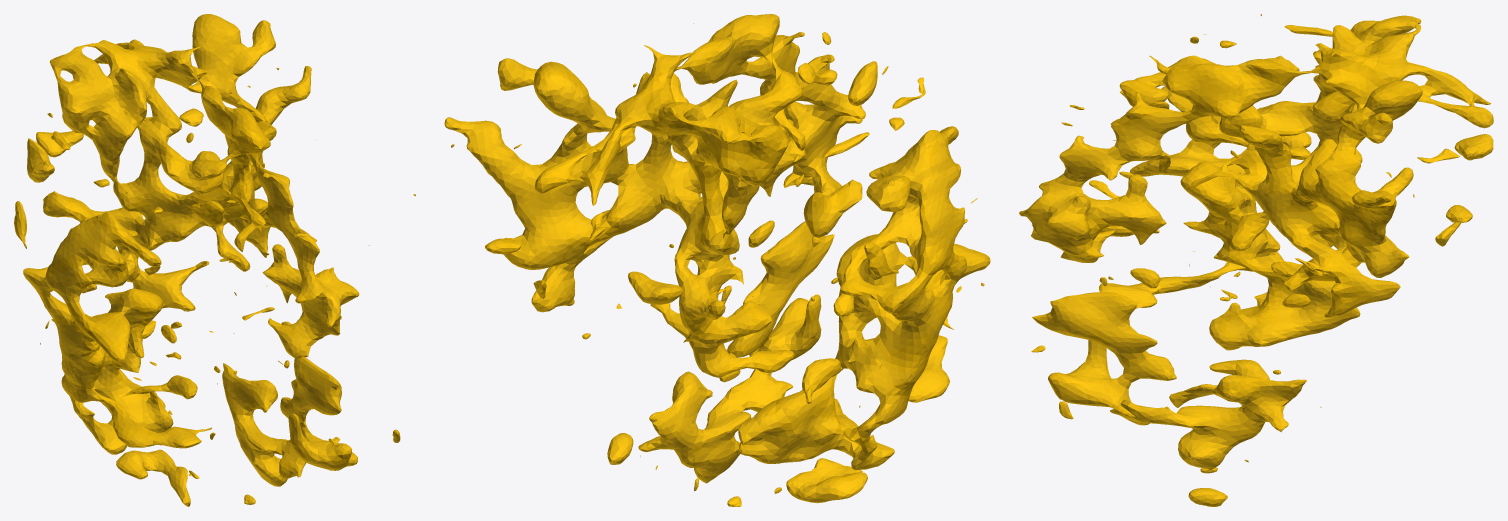
File: case_16_penumbra.gltf
The picture shows the model from 3 angles, left to right: view 1: azimuth 30°, elevation 25°; view 2: azimuth 150°, elevation 25°; view 3: azimuth 270°, elevation 25°; orthographic projection. The views are drawn at different scales.
Visible parts, largest first — view 1: penumbra; view 2: penumbra; view 3: penumbra.
Boxes of the visible parts, x1,y1,x2,y2 form: penumbra: [14, 14, 415, 506]; penumbra: [444, 14, 990, 506]; penumbra: [1019, 14, 1493, 506].
Size of the model in its own units: 1.48 by 1.7 by 1.73.
